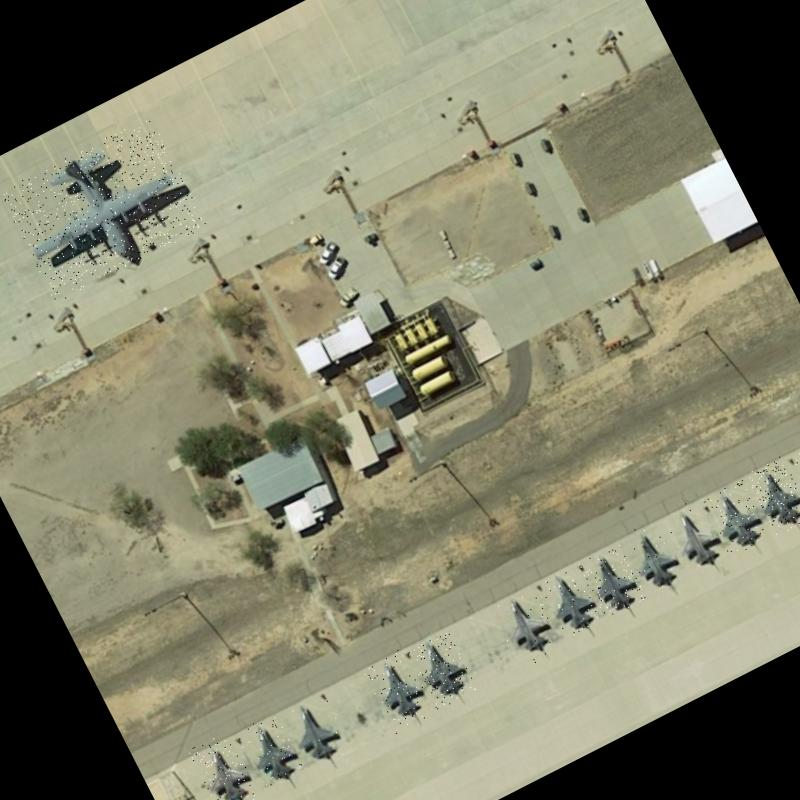A2: (0, 114, 206, 303)
A5: (489, 582, 567, 671), (361, 647, 436, 734), (281, 690, 354, 774), (406, 630, 478, 710), (616, 519, 685, 601), (701, 478, 771, 557), (234, 711, 304, 789), (576, 542, 646, 619), (662, 496, 730, 574), (187, 729, 261, 800), (536, 565, 602, 639), (745, 454, 800, 536)
